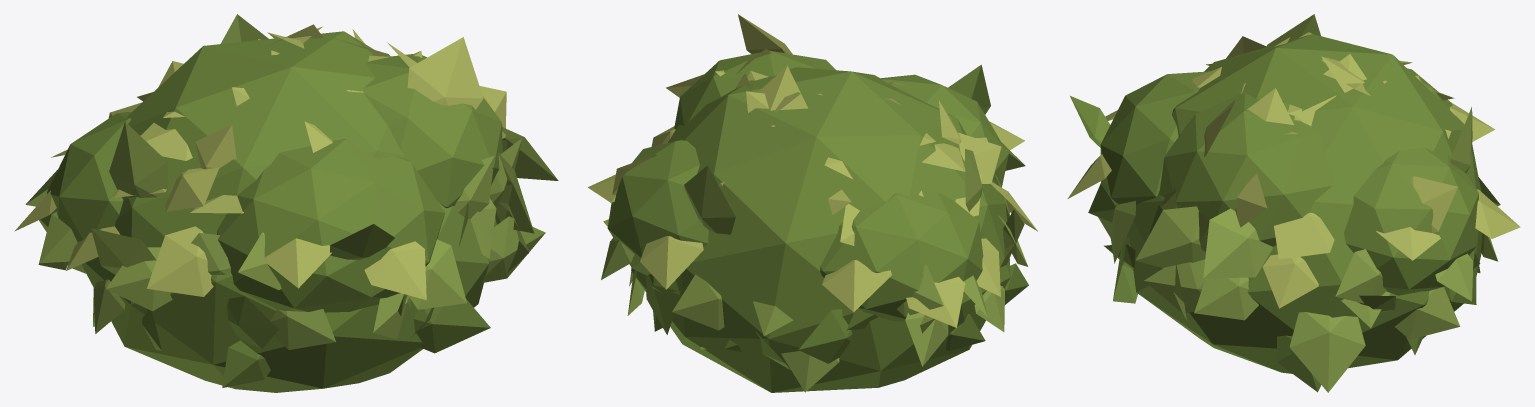
3 renders of one model, left to right at view 1: azimuth 30°, elevation 25°; view 2: azimuth 150°, elevation 25°; view 3: azimuth 270°, elevation 25°, orthographic. The views are drawn at different scales.
Visible parts, largest first — view 1: crown; view 2: crown; view 3: crown.
Part boxes in pixels (bbox=[...]): crown: bbox=[14, 14, 558, 392]; crown: bbox=[588, 14, 1037, 392]; crown: bbox=[1067, 14, 1520, 392].
Bounding box in the file's own units: 1.44 × 0.9725 × 1.44.
